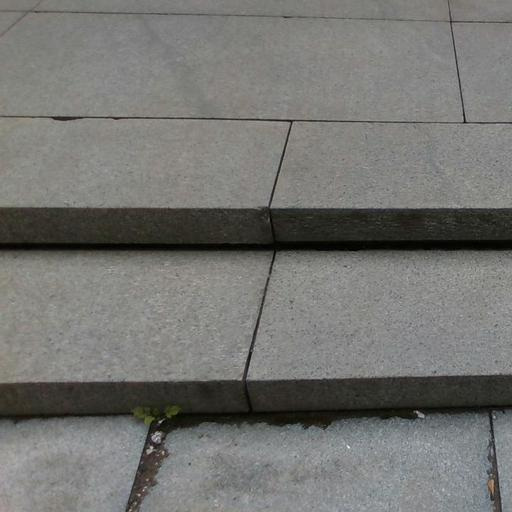stairs: (0, 0, 511, 414)
